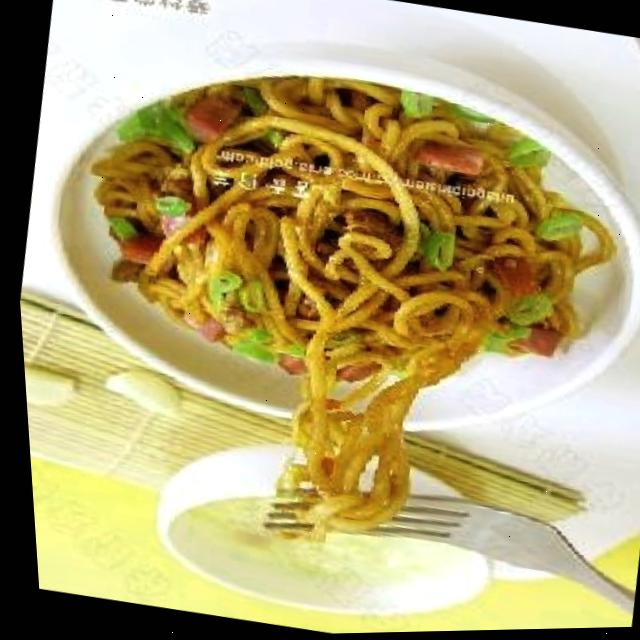面条主食: (0, 0, 640, 597)
